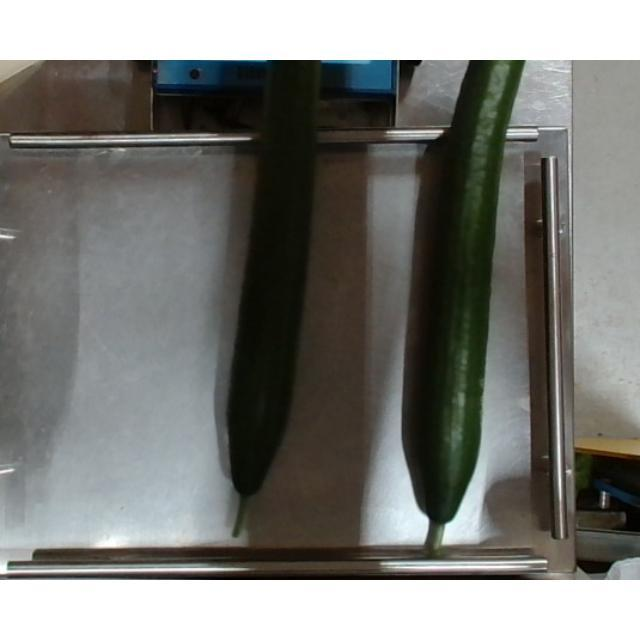cucumber: (402, 61, 526, 556), (226, 61, 324, 542)
